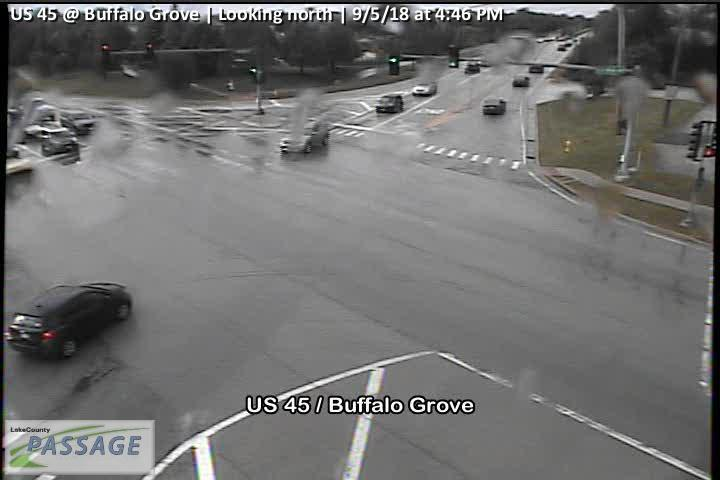SUV: (3, 278, 133, 361), (278, 115, 330, 157), (41, 126, 79, 156), (60, 108, 97, 135), (375, 93, 404, 115)
Sedan: (480, 95, 508, 116), (411, 81, 438, 97), (512, 72, 530, 87), (464, 60, 481, 75), (530, 61, 544, 74)
